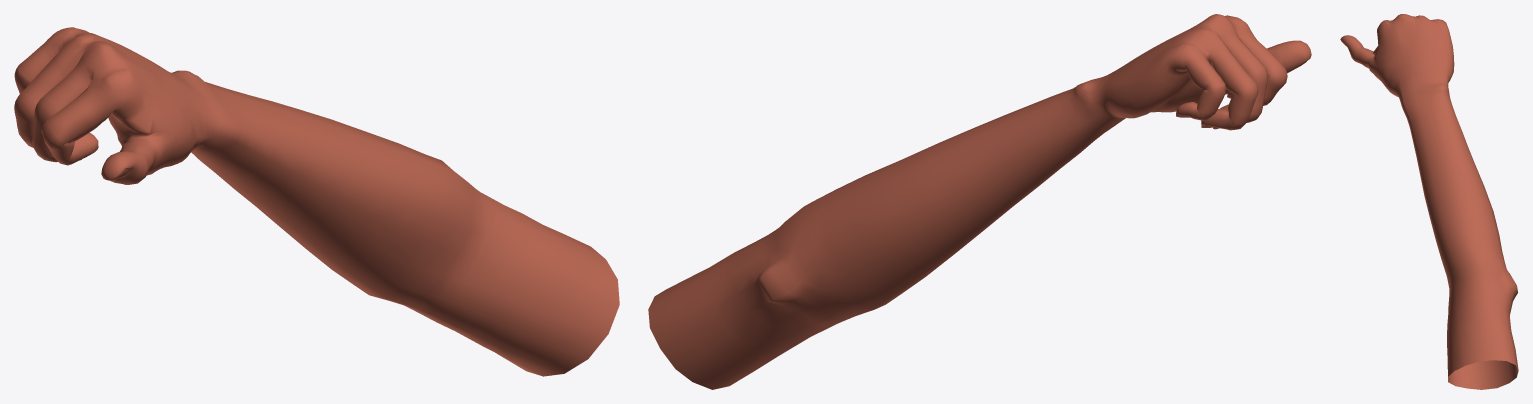
The model's file is closedArm.glb.
3 views of the same model, side by side, from view 1: azimuth 30°, elevation 25°; view 2: azimuth 150°, elevation 25°; view 3: azimuth 270°, elevation 25° (orthographic). The views are drawn at different scales.
Visible parts, largest first — view 1: Рука с отверткой.001; view 2: Рука с отверткой.001; view 3: Рука с отверткой.001.
Boxes of the visible parts, x1=… form: Рука с отверткой.001: x1=14, y1=27, x2=619, y2=376; Рука с отверткой.001: x1=648, y1=14, x2=1311, y2=389; Рука с отверткой.001: x1=1340, y1=14, x2=1518, y2=389.
Bounding box in the file's own units: 0.2522 × 0.1881 × 0.1202.
